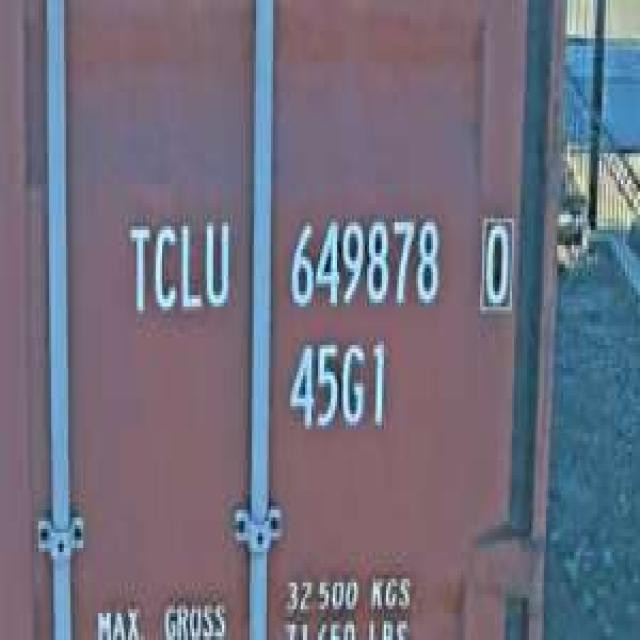dv: (474, 203, 516, 318)
owner: (122, 203, 235, 326)
serial: (281, 203, 446, 322)
size: (282, 330, 391, 440)
